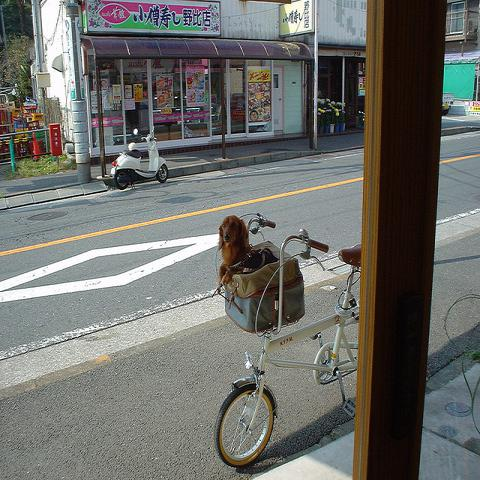motorcycle: (110, 126, 169, 190)
